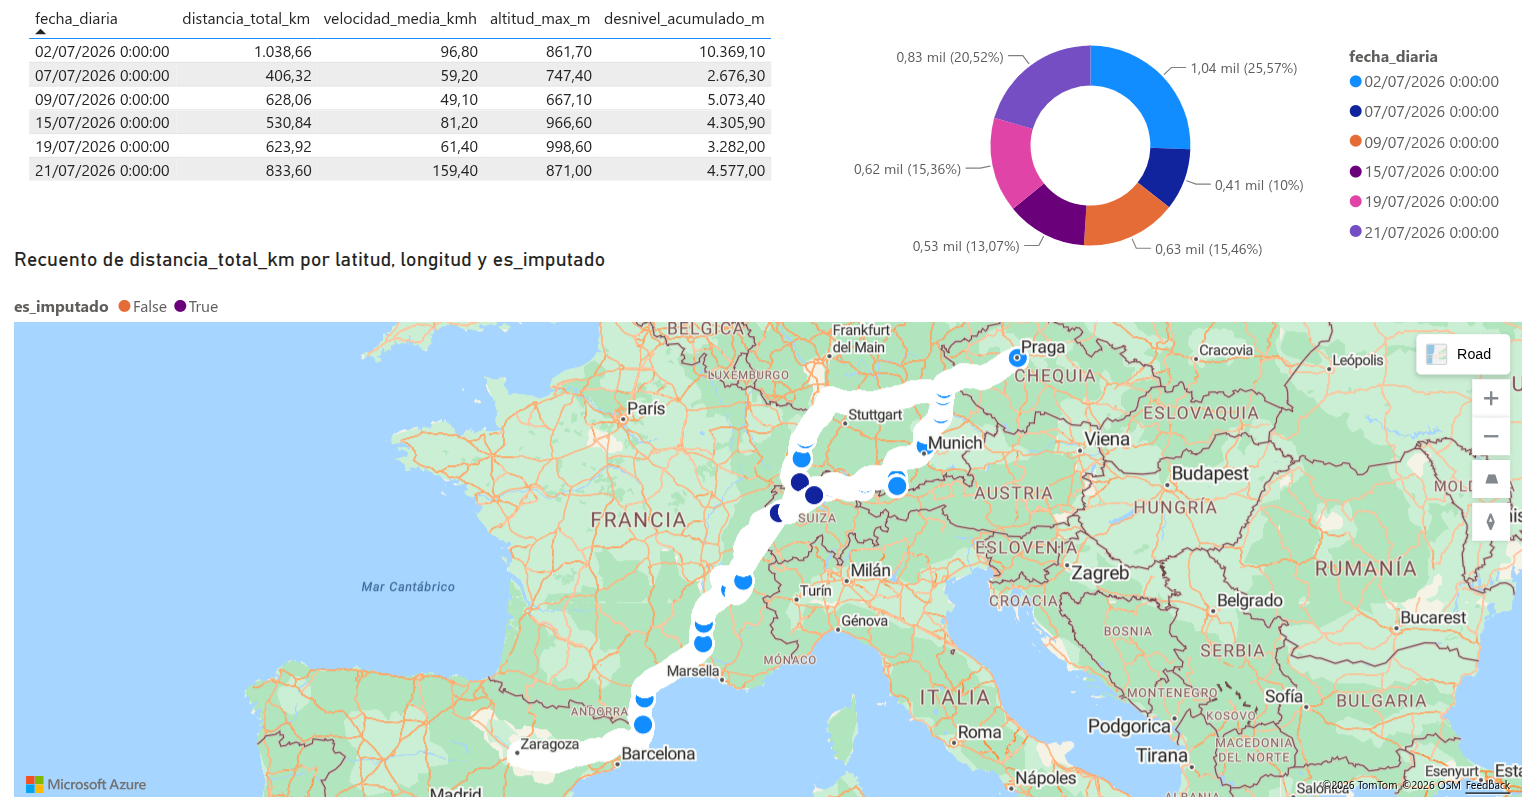

The dashboard page shown, as its layout file describes it:
{"tool":"powerbi","page":{"name":"Página 1","canvas":[1280,720],"ordinal":0},"visuals":[{"type":"azureMap","fields":{"Series":["stg_puntos_gpx.es_imputado"],"Size":["CountNonNull(gold_rutas_resumen.distancia_total_km)"],"X":["stg_puntos_gpx.longitud"],"Y":["stg_puntos_gpx.latitud"]},"box":[0,254.5,1280,465.1],"z":0},{"type":"tableEx","fields":{"Values":["gold_rutas_resumen.fecha_diaria","gold_rutas_resumen.distancia_total_km","gold_rutas_resumen.velocidad_media_kmh","gold_rutas_resumen.altitud_max_m","gold_rutas_resumen.desnivel_acumulado_m"]},"box":[11.5,42.9,677.7,168.6],"z":1000},{"type":"donutChart","fields":{"Category":["gold_rutas_resumen.fecha_diaria"],"Y":["Sum(gold_rutas_resumen.distancia_total_km)"]},"box":[689.2,25.1,581.3,254.5],"z":2000}]}

Visuals, with their boxes on the page's 1280x720 design canvas (x1, y1, x2, y2). These are canvas units, not pixel positions in the 1529x803 screenshot, which may show the page scaled, cropped or inside an application window:
azureMap - stg_puntos_gpx.es_imputado x CountNonNull(gold_rutas_resumen.distancia_total_km): locate(0, 254, 1280, 720)
tableEx - gold_rutas_resumen.fecha_diaria x gold_rutas_resumen.distancia_total_km: locate(12, 43, 689, 212)
donutChart - gold_rutas_resumen.fecha_diaria x Sum(gold_rutas_resumen.distancia_total_km): locate(689, 25, 1270, 280)
